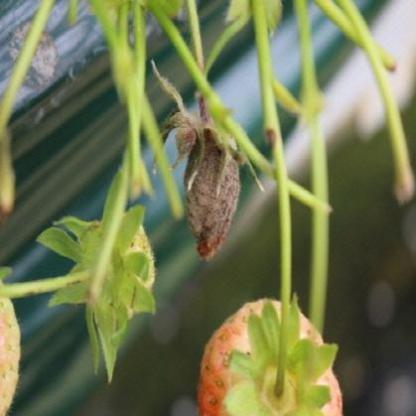Strawberry_Gray_Mold: (161, 86, 241, 262)
